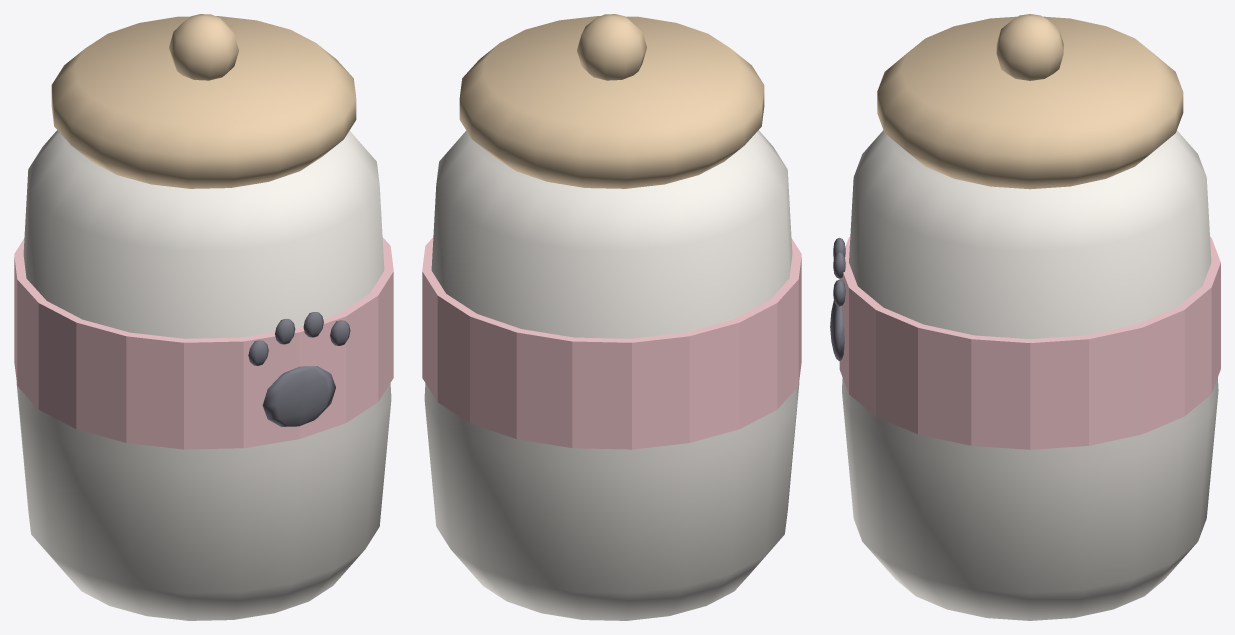
Rendered from companion-animals-and-pet-home-treat-jar-b7769fd4__20673.glb.
3 renders of one model, left to right at view 1: azimuth 30°, elevation 25°; view 2: azimuth 150°, elevation 25°; view 3: azimuth 270°, elevation 25°, orthographic.
Visible parts, largest first — view 1: treat-jar; view 2: treat-jar; view 3: treat-jar.
Part boxes in pixels (box(x1,y1,x2,y2)): treat-jar: box(14, 14, 393, 620); treat-jar: box(422, 14, 801, 620); treat-jar: box(830, 14, 1220, 620).
Size of the model in its own units: 0.162 by 0.255 by 0.166.
